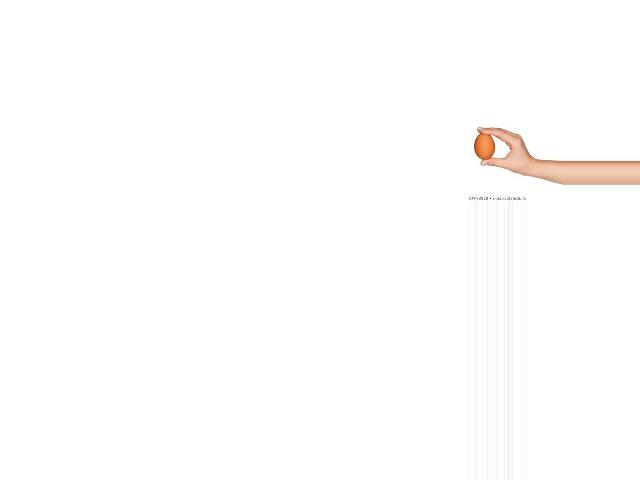egg: (473, 132, 494, 160)
